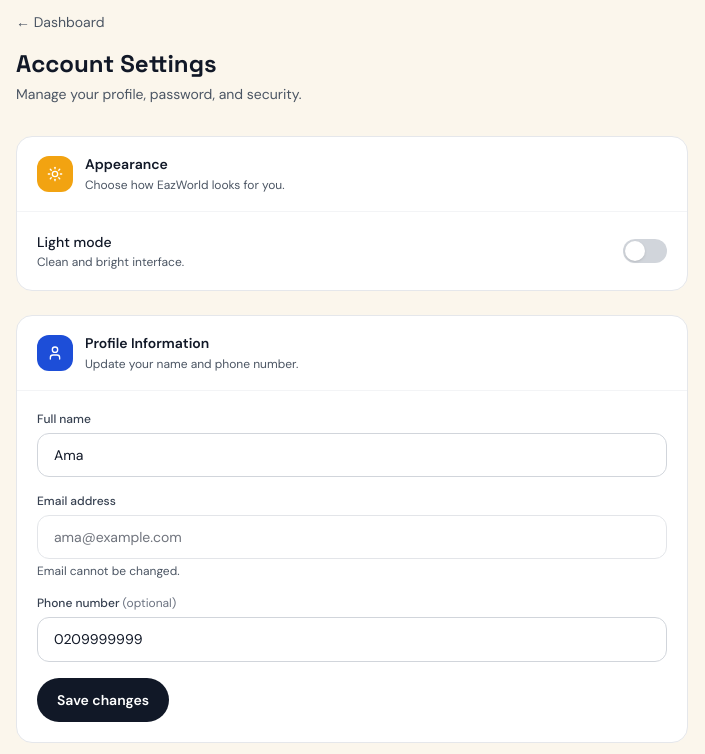
Scenario: Settings — phone change needs an SMS code (T84) › shows the code step when the server parks the change
Replace the text in the field labelled "Phone number (optional)" with "0244000111": (352, 640) x1=37 y1=617 x2=667 y2=662
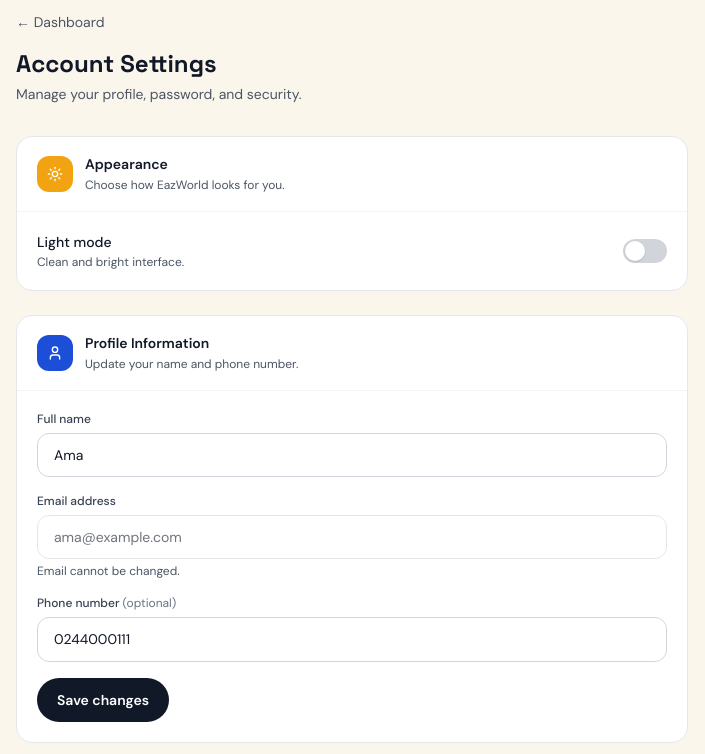
Click the button "Save changes": (103, 700) x1=37 y1=678 x2=169 y2=722
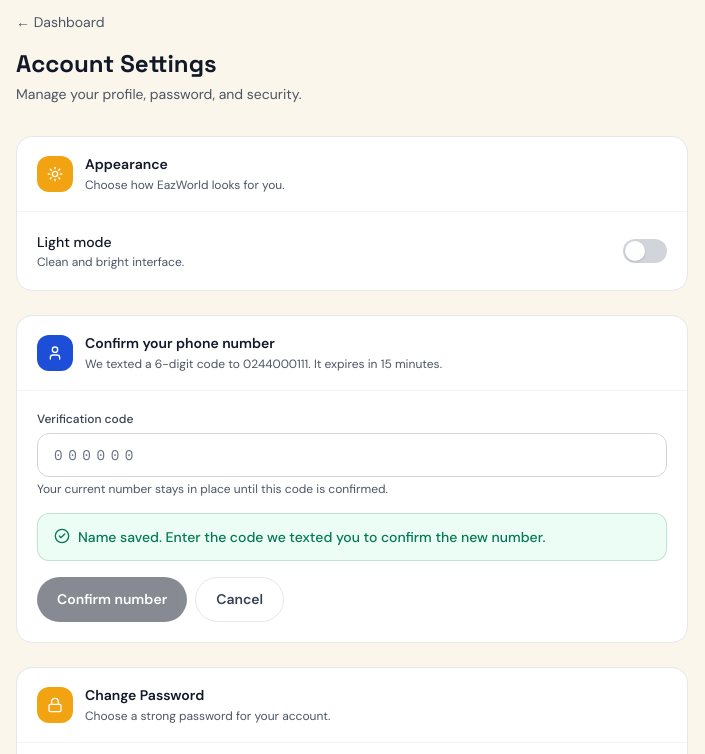
Check: the field labelled "Verification code" is shown, box x1=37 y1=433 x2=667 y2=477
Check: the heading "Confirm your phone number" is shown, box x1=85 y1=334 x2=275 y2=352
Check: the text "0244000111" is shown, box x1=85 y1=356 x2=442 y2=372
